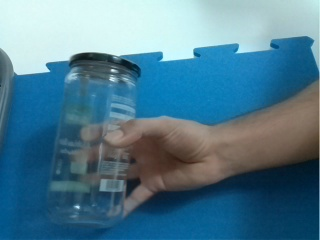pote cristal: (45, 51, 142, 230)
